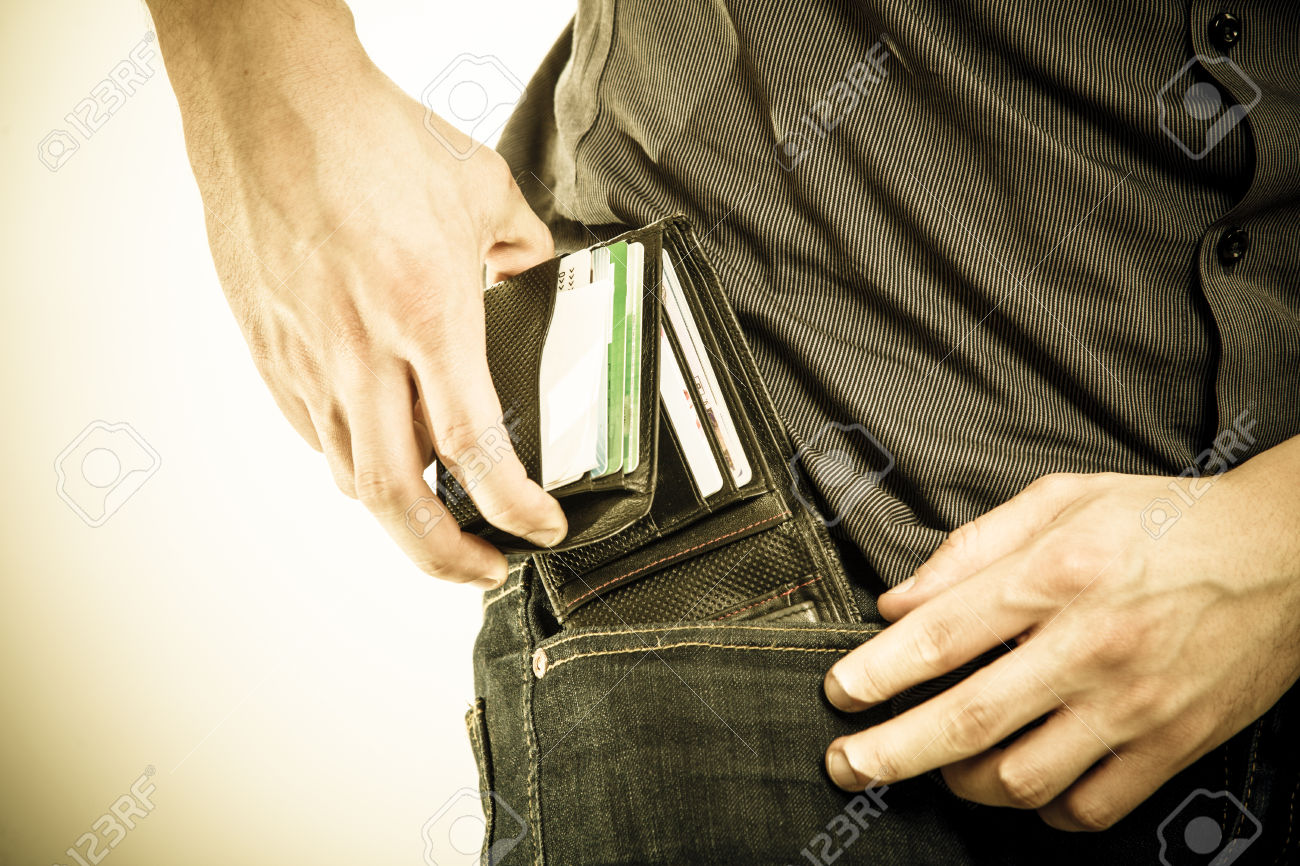monedero: (433, 218, 864, 635)
